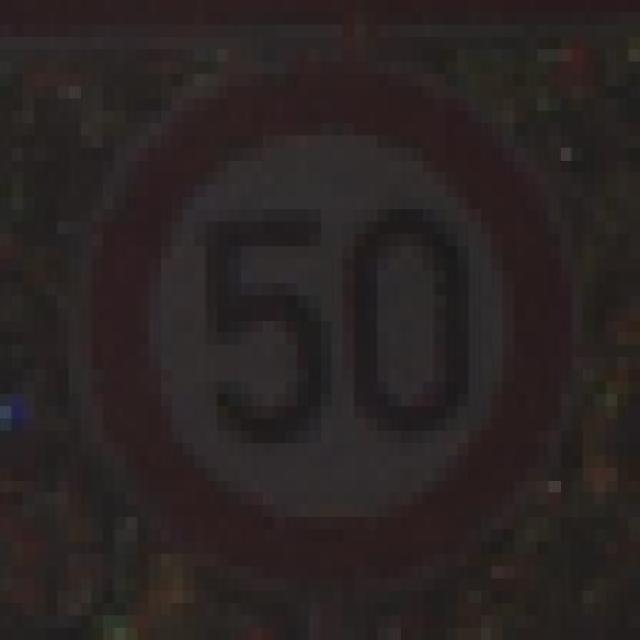forb_speed_over_50: (89, 71, 572, 578)
